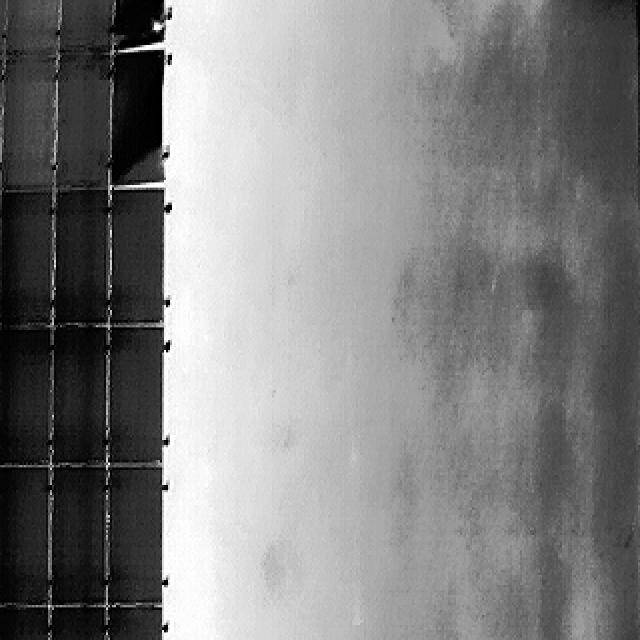PV-modules: (45, 331, 104, 471), (44, 470, 103, 609), (110, 470, 168, 611), (48, 192, 107, 330), (109, 325, 167, 465), (111, 187, 168, 325), (52, 54, 108, 191), (0, 56, 54, 194), (112, 48, 166, 185), (0, 193, 53, 332), (0, 332, 51, 472), (0, 472, 50, 611), (0, 0, 57, 55), (55, 0, 114, 52), (113, 0, 171, 51), (106, 607, 164, 640), (42, 610, 102, 640), (0, 605, 48, 640)
